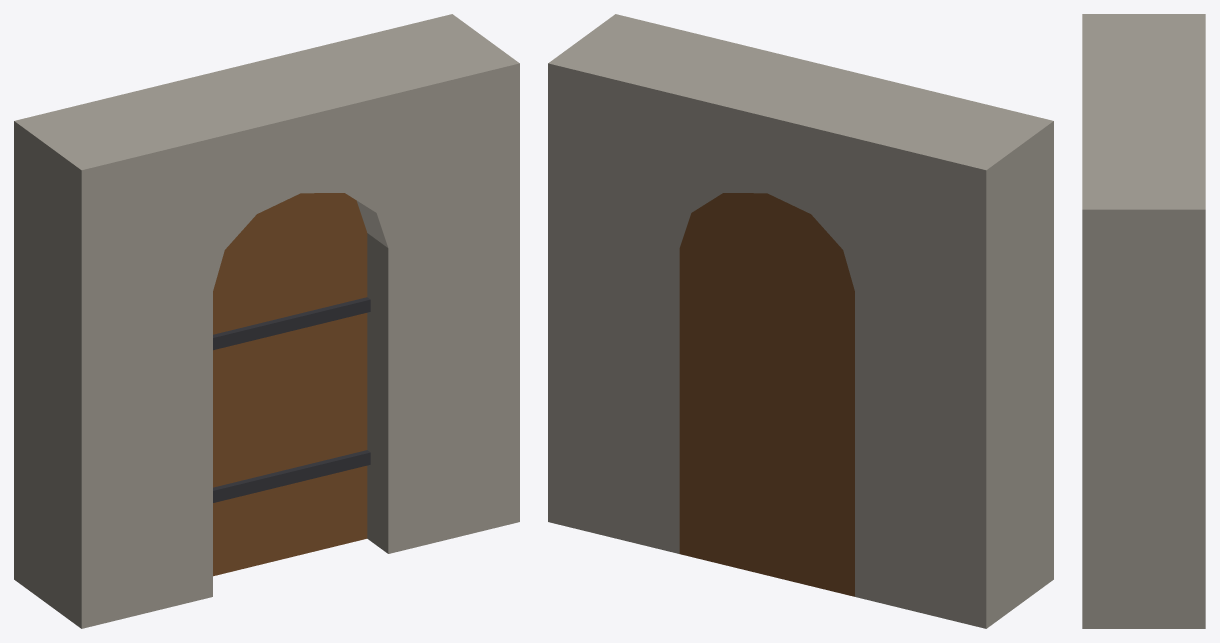
Rendered from Donzon_Drzwi.fbx.
The picture shows the model from 3 angles, left to right: view 1: azimuth 30°, elevation 25°; view 2: azimuth 150°, elevation 25°; view 3: azimuth 270°, elevation 25°; orthographic projection. The views are drawn at different scales.
Visible parts, largest first — view 1: Donzon_Drzwi; view 2: Donzon_Drzwi; view 3: Donzon_Drzwi.
Boxes of the visible parts, bbox=[...] form: Donzon_Drzwi: bbox=[14, 14, 519, 628]; Donzon_Drzwi: bbox=[548, 14, 1053, 628]; Donzon_Drzwi: bbox=[1082, 14, 1205, 628].
Size of the model in its own units: 3 by 3 by 0.8.
